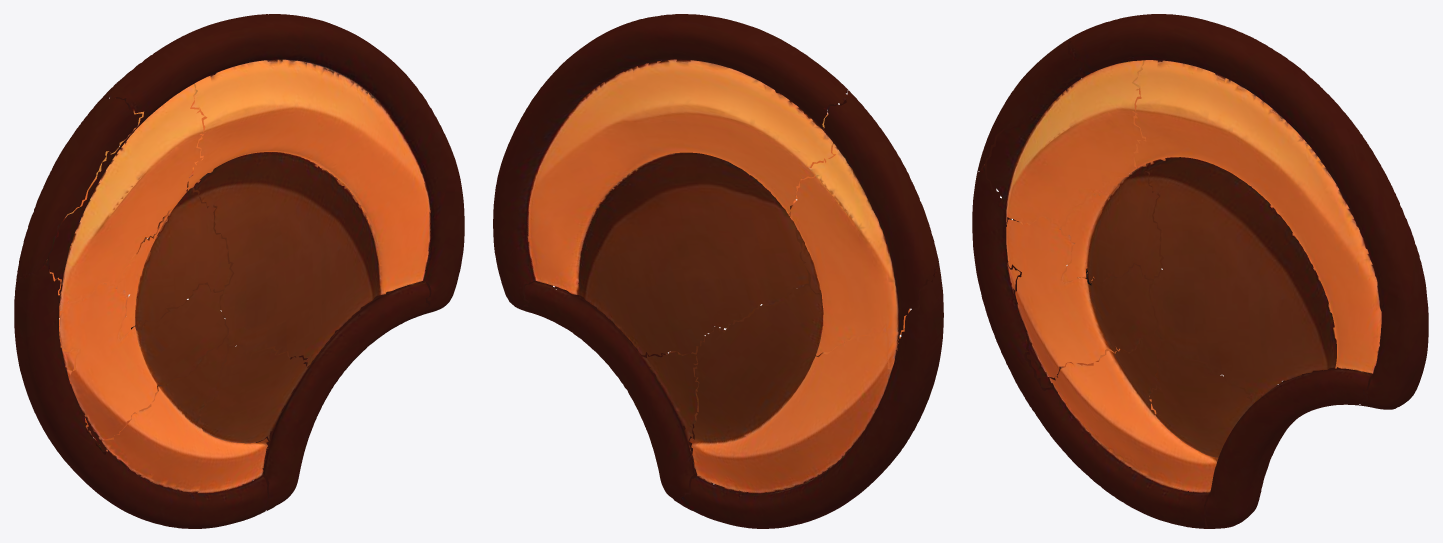
The model's file is oreja-derecha.glb.
The picture shows the model from 3 angles, left to right: view 1: azimuth 30°, elevation 25°; view 2: azimuth 150°, elevation 25°; view 3: azimuth 330°, elevation 25°; orthographic projection.
Parts seen in each view (by area): view 1: model; view 2: model; view 3: model.
Boxes of the visible parts, left/top/right/bottom form: model: left=14, top=14, right=464, bottom=528; model: left=493, top=14, right=943, bottom=528; model: left=972, top=14, right=1428, bottom=528.
Bounding box in the file's own units: 1.76 × 1.9 × 0.2307.
Materials: 1 (1 with a texture image).
